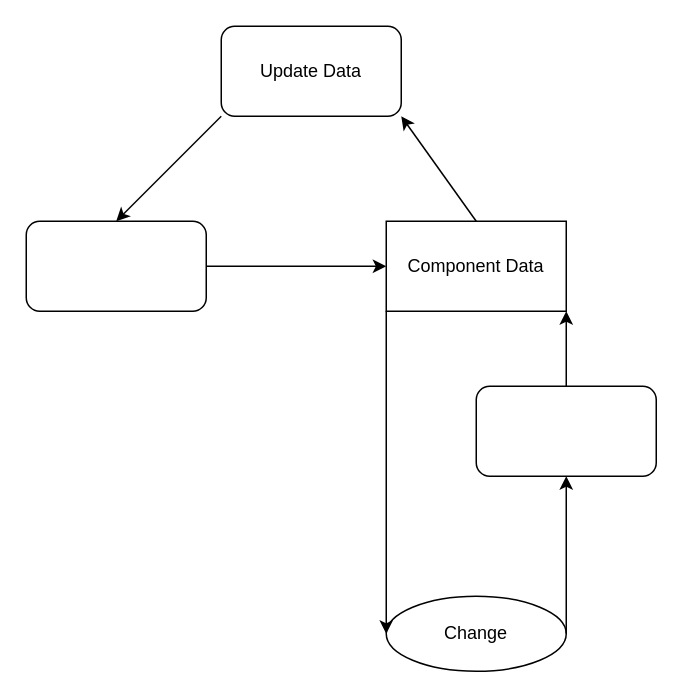
Image size: 683x698. Some labels were removed from this diagram. The centre of each missing label's shape, as x and y in pixels:
"Load Data (ConvertData)" belongs at point (115, 265).
"Update Component Data" belongs at point (565, 430).
